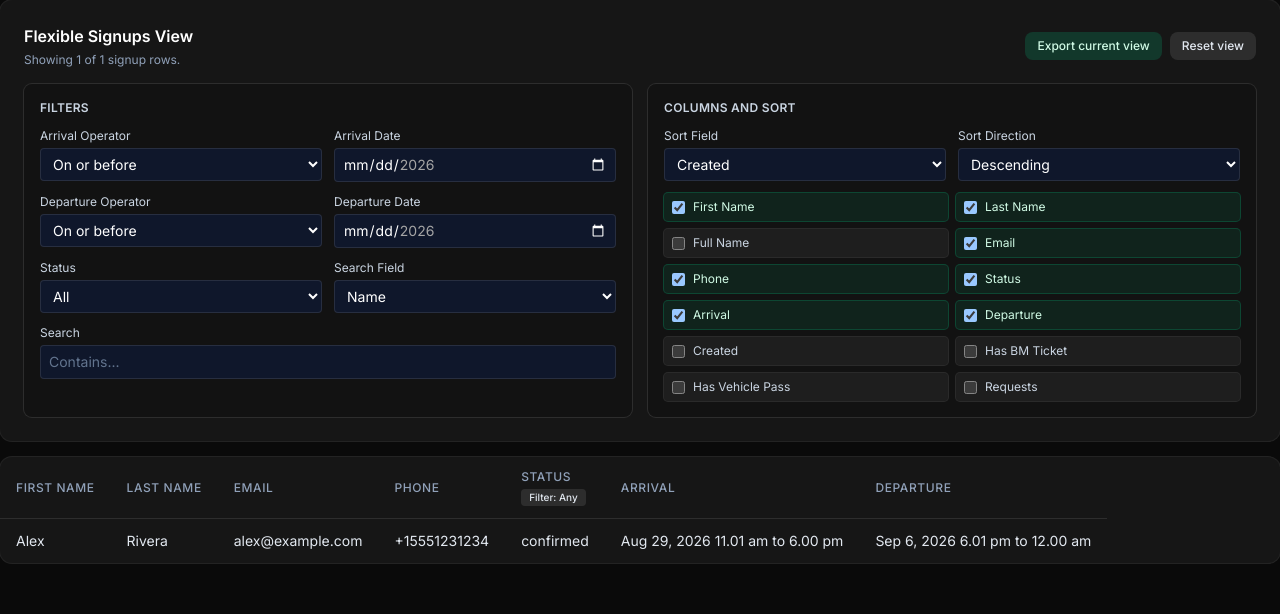
Test: ExportSignupsTable view controls › keeps table visible while refreshing after a header filter change
Step 1. Click the checkbox named "Show Has BM Ticket" → (970, 351), box [964, 344, 977, 358]
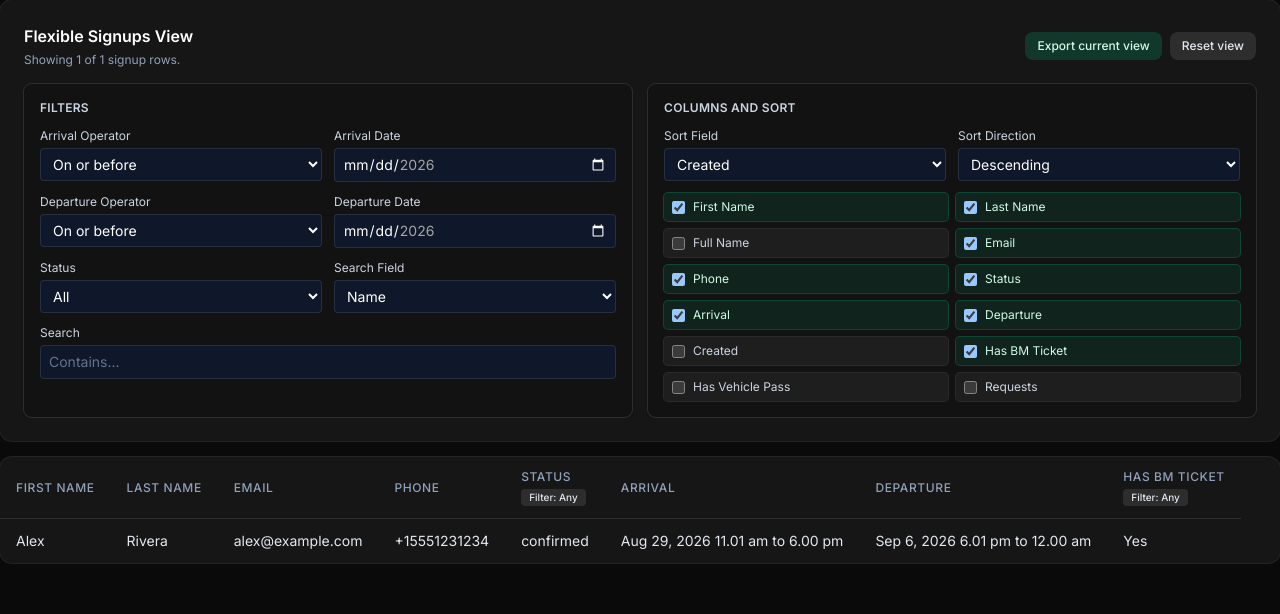
Step 2. Click the button with aria-label "Filter Has BM Ticket: Any" → (1156, 498), box [1123, 489, 1188, 506]
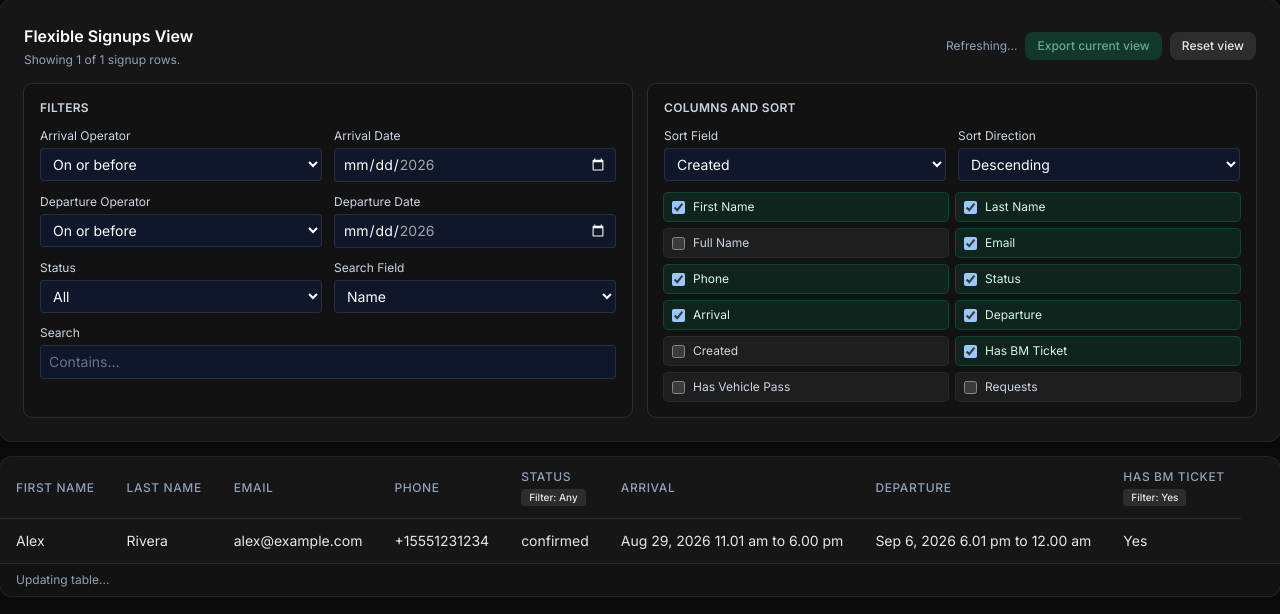
Check: the button with aria-label "Filter Has BM Ticket: Yes" is shown, box [1123, 489, 1186, 506]
Check: the text "Updating table..." is shown, box [0, 563, 1279, 596]
